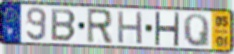9: (25, 7, 48, 43)
B: (50, 7, 78, 43)
H: (153, 11, 181, 48), (116, 10, 144, 46)
Q: (182, 13, 212, 49)
R: (86, 7, 114, 46)
